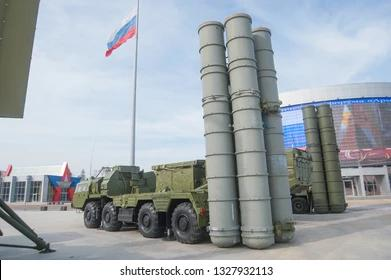MIL_SAM_TEL: (71, 10, 300, 248), (293, 97, 348, 214)
